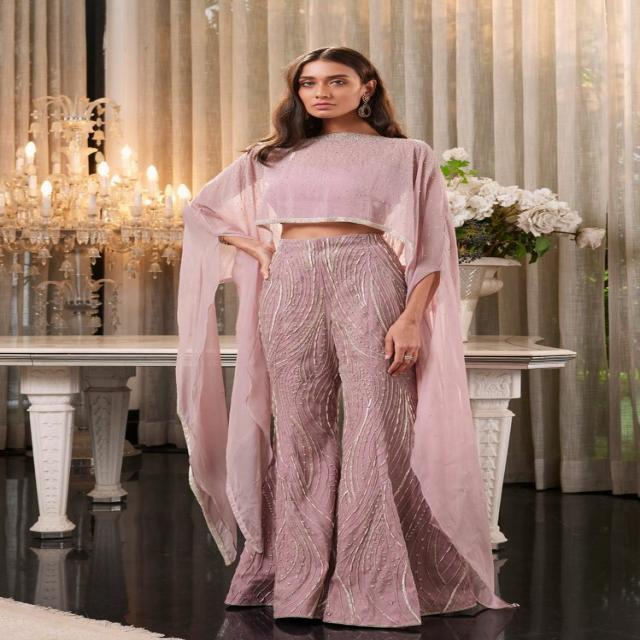female-dress: (221, 132, 489, 620)
